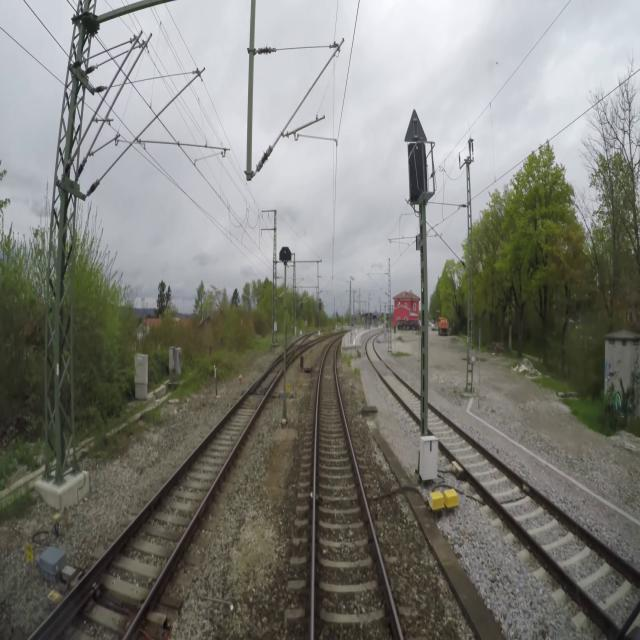rail-track: (42, 360, 283, 639), (427, 405, 581, 566), (315, 341, 398, 639), (367, 338, 420, 415)
